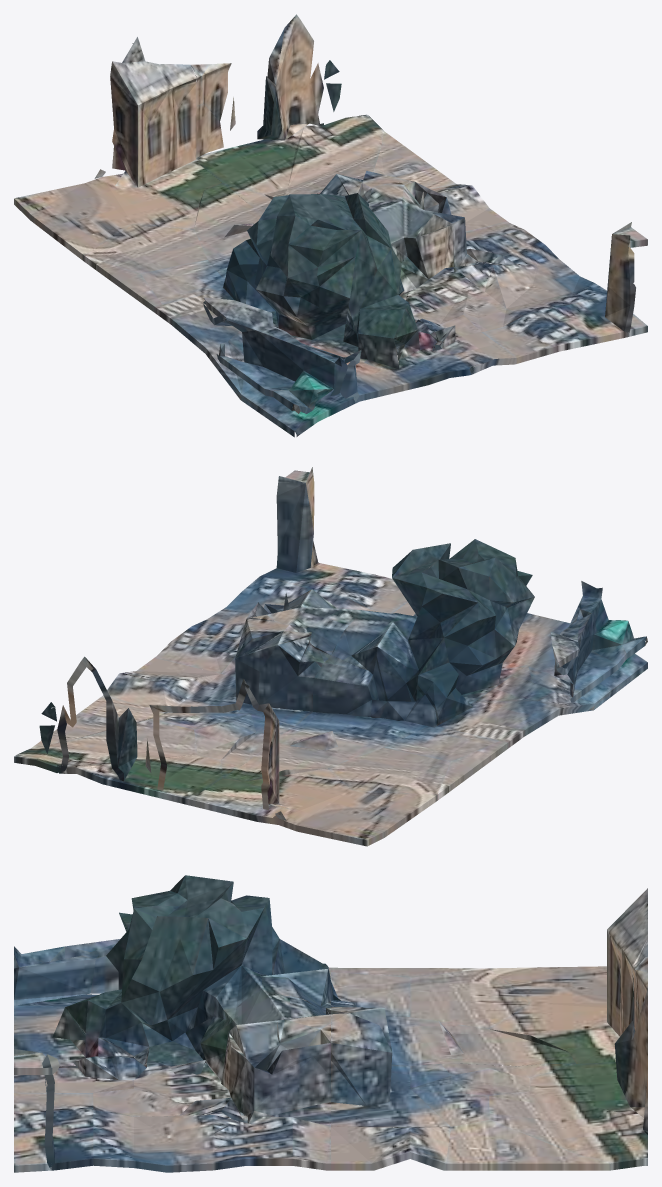
The model's file is chunk_5_3.glb.
3 renders of one model, top to bottom at view 1: azimuth 30°, elevation 25°; view 2: azimuth 150°, elevation 25°; view 3: azimuth 270°, elevation 25°, orthographic. The views are drawn at different scales.
Parts seen in each view (by area): view 1: hero-chunk; view 2: hero-chunk; view 3: hero-chunk.
Part boxes in pixels (left/top/right/bottom): hero-chunk: left=14, top=14, right=647, bottom=437; hero-chunk: left=14, top=467, right=647, bottom=846; hero-chunk: left=14, top=875, right=647, bottom=1172.
Bounding box in the file's own units: 55.43 × 25.14 × 76.32.
1 material, 1 textured.
